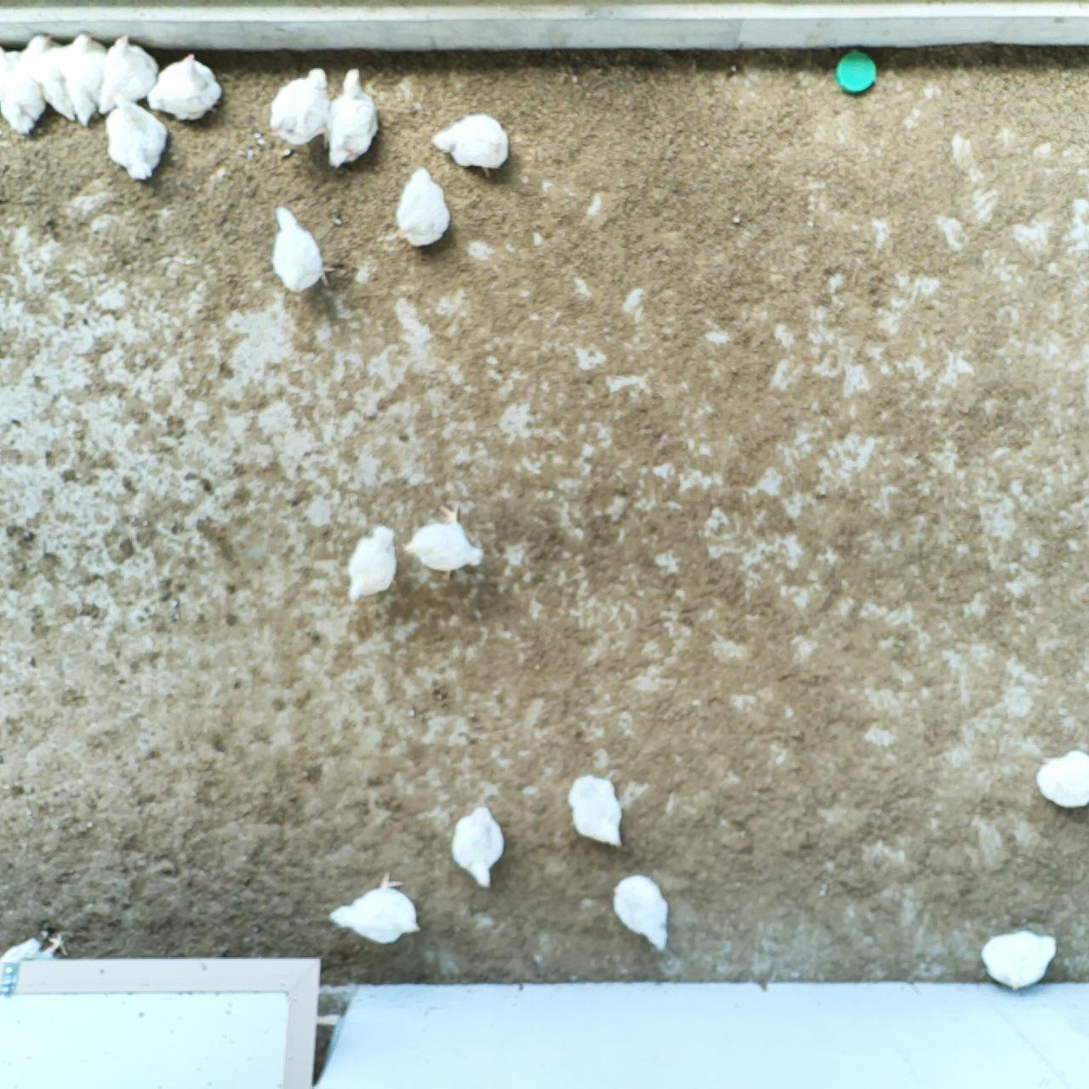chicken: (322, 876, 425, 948), (265, 202, 334, 293), (324, 65, 382, 172), (403, 499, 486, 573), (103, 92, 171, 181), (143, 50, 222, 123), (426, 111, 512, 177), (449, 801, 510, 891), (55, 30, 111, 124), (612, 868, 672, 954), (979, 928, 1061, 990), (396, 166, 453, 255), (95, 36, 159, 115), (568, 770, 629, 852), (270, 69, 329, 152), (21, 33, 76, 121), (346, 517, 402, 601), (0, 44, 48, 138), (1034, 743, 1088, 813), (0, 927, 70, 972)
